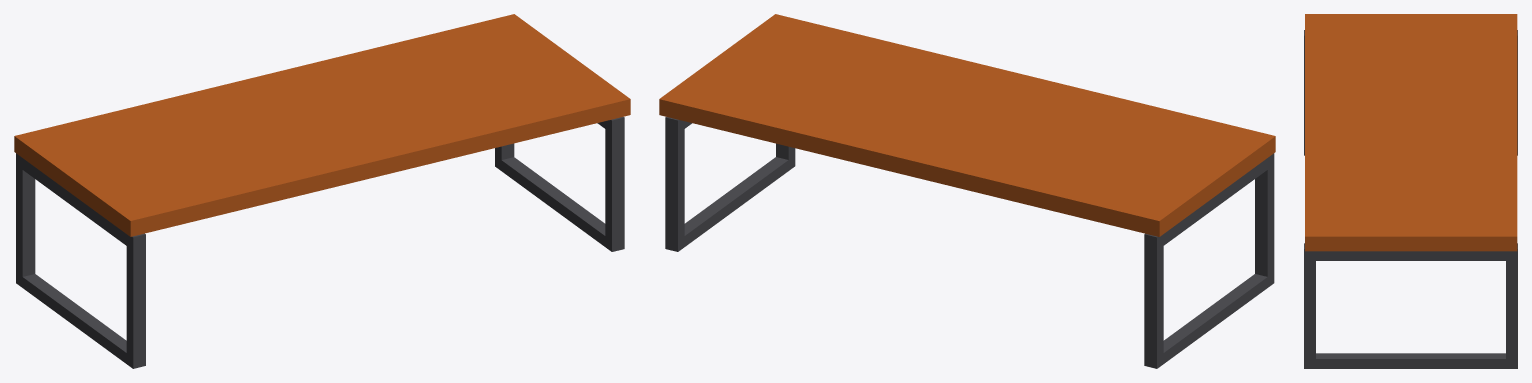
Rendered from MesaBaja.fbx.
3 renders of one model, left to right at view 1: azimuth 30°, elevation 25°; view 2: azimuth 150°, elevation 25°; view 3: azimuth 270°, elevation 25°, orthographic. The views are drawn at different scales.
Parts seen in each view (by area): view 1: MesaBaja, PataMesaBaja, Pata2MesaBaja; view 2: MesaBaja, PataMesaBaja, Pata2MesaBaja; view 3: MesaBaja, Pata2MesaBaja, PataMesaBaja.
Boxes of the visible parts, x1,y1,x2,y2 form: MesaBaja: (14, 14, 630, 236); PataMesaBaja: (16, 153, 145, 368); Pata2MesaBaja: (495, 117, 624, 251); MesaBaja: (659, 14, 1275, 236); PataMesaBaja: (1144, 153, 1274, 368); Pata2MesaBaja: (665, 117, 795, 251); MesaBaja: (1305, 14, 1517, 251); Pata2MesaBaja: (1304, 243, 1517, 368); PataMesaBaja: (1304, 30, 1517, 155).
Bounding box in the file's own units: 1.97 × 0.5573 × 0.8.
